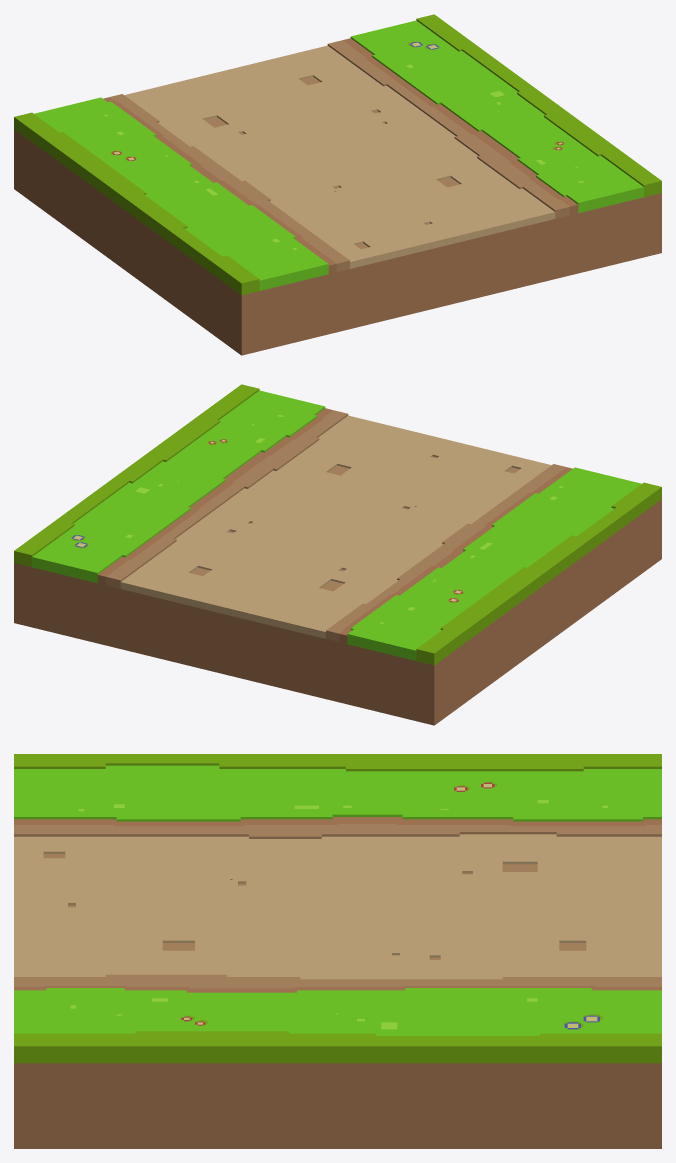
The model's file is DP_ForestRoad_FbxModel.FBX.
The picture shows the model from 3 angles, top to bottom: view 1: azimuth 30°, elevation 25°; view 2: azimuth 150°, elevation 25°; view 3: azimuth 270°, elevation 25°; orthographic projection. The views are drawn at different scales.
Parts seen in each view (by area): view 1: default; view 2: default; view 3: default.
Part boxes in pixels (x1=…): default: x1=14, y1=14, x2=661, y2=355; default: x1=14, y1=384, x2=661, y2=725; default: x1=14, y1=754, x2=661, y2=1148.
Bounding box in the file's own units: 25.6 × 4.2 × 24.
